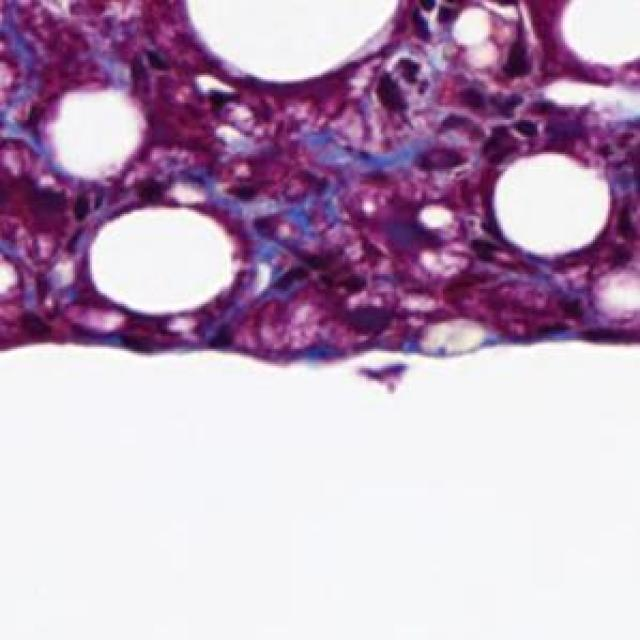inflammation: (456, 84, 559, 162), (368, 49, 441, 122)
